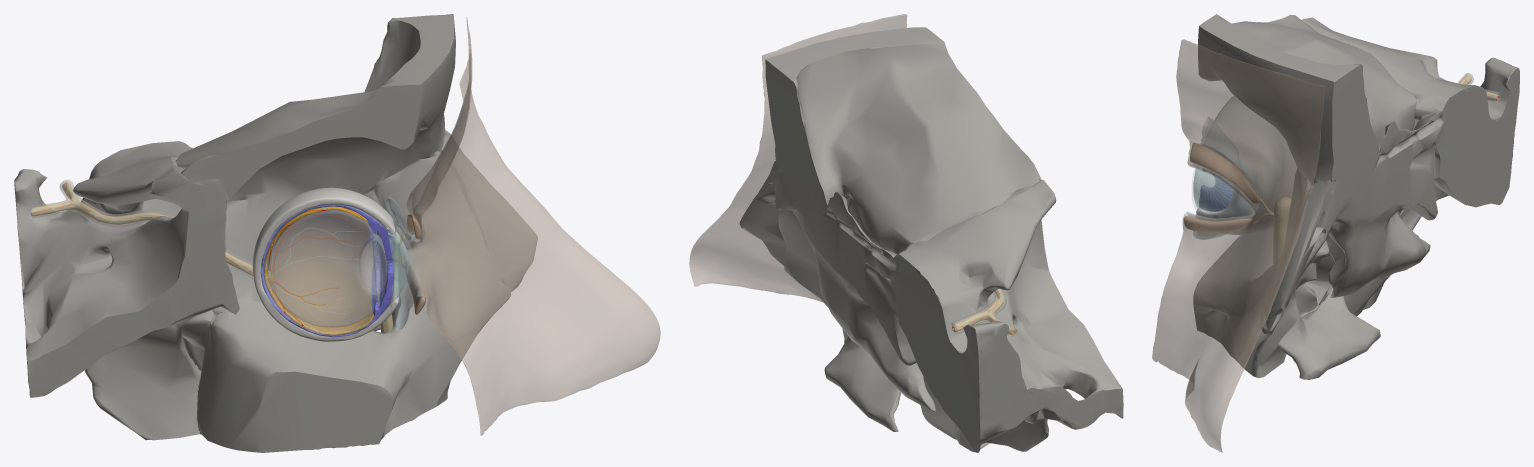
Rendered from anatomy_of_the_eye.glb.
3 renders of one model, left to right at view 1: azimuth 30°, elevation 25°; view 2: azimuth 150°, elevation 25°; view 3: azimuth 270°, elevation 25°, orthographic. The views are drawn at different scales.
Parts seen in each view (by area): view 1: Bones10, Skin, Choroid, Optic_part_of_right_retina, Glasvocht, Sclera, Right_optic_nerve2, Right_optic_nerve1, Lens, Anterior_chamber; view 2: Bones10, Skin, Right_optic_nerve2, Right_optic_nerve1; view 3: Bones10, Skin, Sclera, Anterior_chamber, Cornea1, Tarsal_plate_upper_eyelid, Right_lacrimal_caniculus, Choroid, Tarsal_plate_lower_eyelid.
Boxes of the visible parts, left/top/right/bottom form: Bones10: left=14, top=14, right=537, bottom=452; Skin: left=386, top=17, right=660, bottom=435; Choroid: left=260, top=204, right=394, bottom=337; Optic_part_of_right_retina: left=264, top=206, right=373, bottom=335; Glasvocht: left=267, top=207, right=376, bottom=327; Sclera: left=252, top=187, right=398, bottom=341; Right_optic_nerve2: left=31, top=180, right=253, bottom=280; Right_optic_nerve1: left=30, top=182, right=274, bottom=283; Lens: left=360, top=234, right=387, bottom=294; Anterior_chamber: left=387, top=231, right=409, bottom=301; Bones10: left=739, top=27, right=1123, bottom=452; Skin: left=689, top=14, right=907, bottom=302; Right_optic_nerve2: left=951, top=289, right=1017, bottom=336; Right_optic_nerve1: left=952, top=289, right=1016, bottom=335; Bones10: left=1193, top=14, right=1519, bottom=379; Skin: left=1152, top=39, right=1324, bottom=452; Sclera: left=1196, top=95, right=1296, bottom=234; Anterior_chamber: left=1193, top=167, right=1233, bottom=211; Cornea1: left=1192, top=168, right=1233, bottom=214; Tarsal_plate_upper_eyelid: left=1190, top=143, right=1259, bottom=203; Right_lacrimal_caniculus: left=1253, top=196, right=1291, bottom=264; Choroid: left=1199, top=169, right=1233, bottom=211; Tarsal_plate_lower_eyelid: left=1183, top=216, right=1252, bottom=232.
Bounding box in the file's own units: 109 × 68.83 × 66.88.
